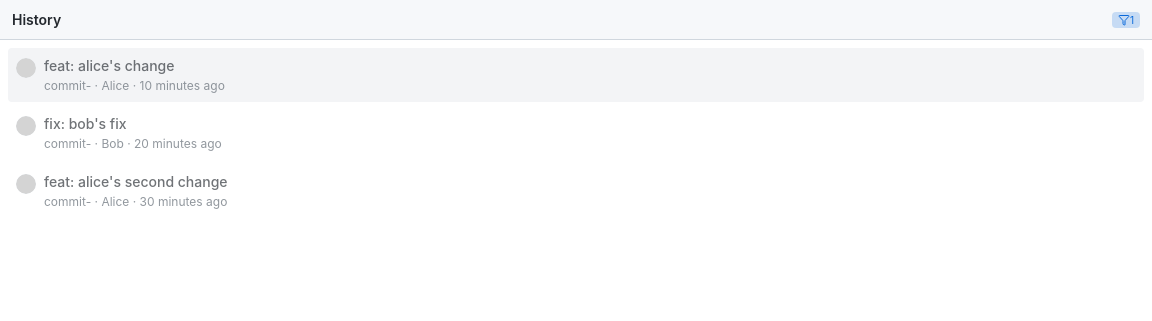
Test: Sidebar › author filter › pins selected authors above unselected authors
expect the text "feat: alice's change" is shown: met, box [44,57,174,74]
Click the button with test id "author-filter-button" at (1126, 20), box [1112,12,1140,28]
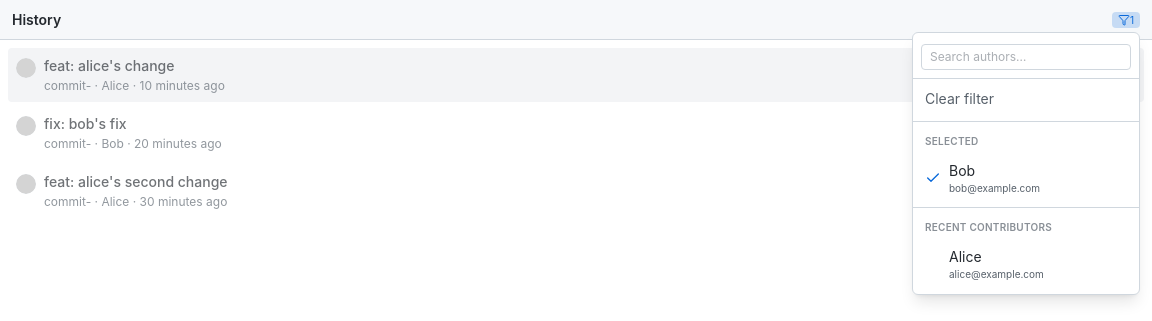
expect the text "Selected" is shown: met, box [925,135,978,147]
